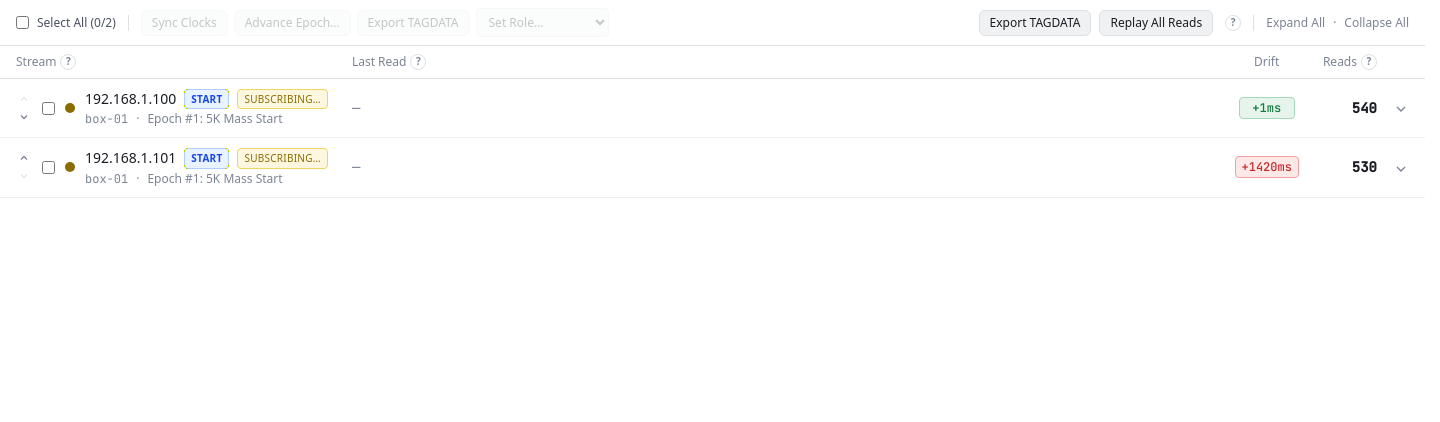
Test: StreamsTab Race Day Enhancements › renders forwarder configuration button in expanded row
Click row 1 to expand
Step 1. Click the button "192.168.1.100" → (131, 99), box [0,78,1425,138]
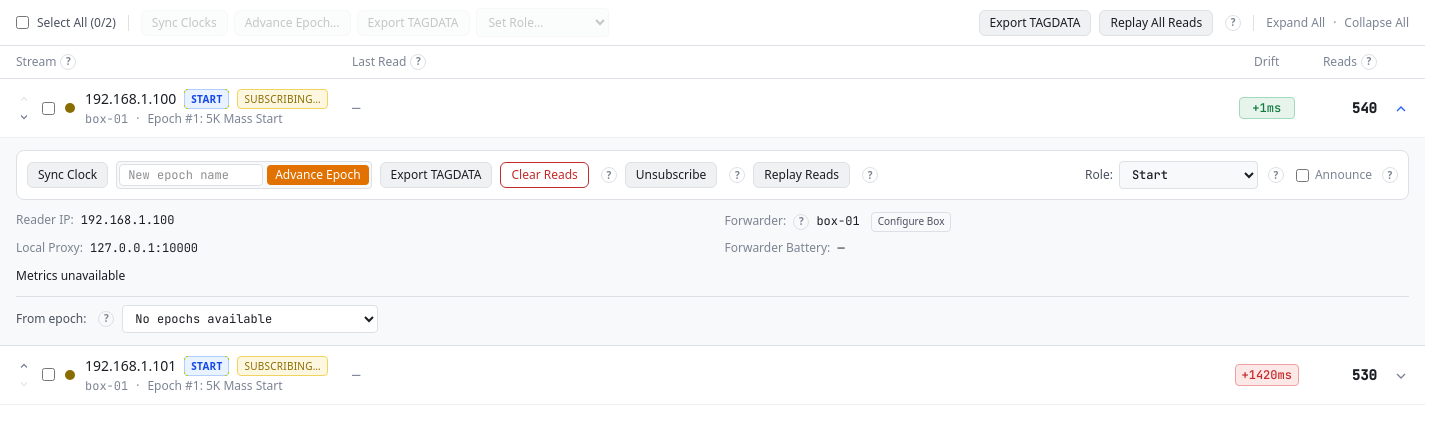
Expected: the button with test id "stream-fwd-config-btn-fwd-1/reader-100" is shown, [871,212,951,232]
